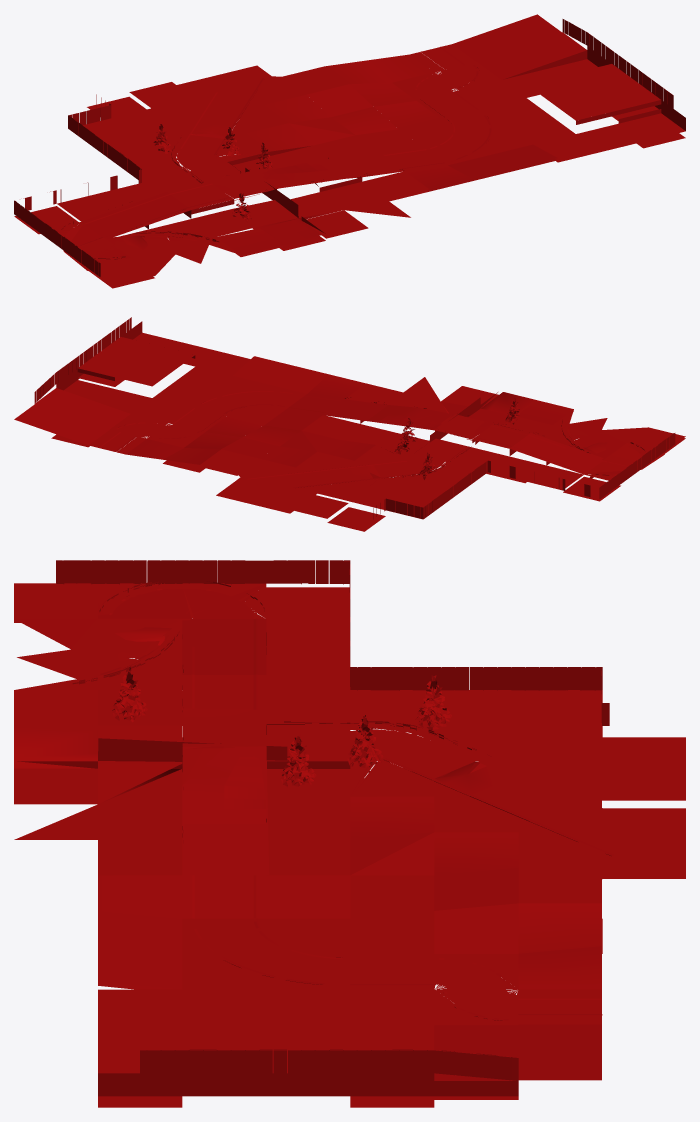
The picture shows the model from 3 angles, top to bottom: view 1: azimuth 30°, elevation 25°; view 2: azimuth 150°, elevation 25°; view 3: azimuth 270°, elevation 25°; orthographic projection. The views are drawn at different scales.
Parts seen in each view (by area): view 1: map2.003; view 2: map2.003; view 3: map2.003.
Part boxes in pixels (x1,y1,x2,y2): map2.003: (14,14,685,288); map2.003: (14,317,685,531); map2.003: (14,560,685,1107).
Size of the model in its own units: 908 by 66.4 by 518.
